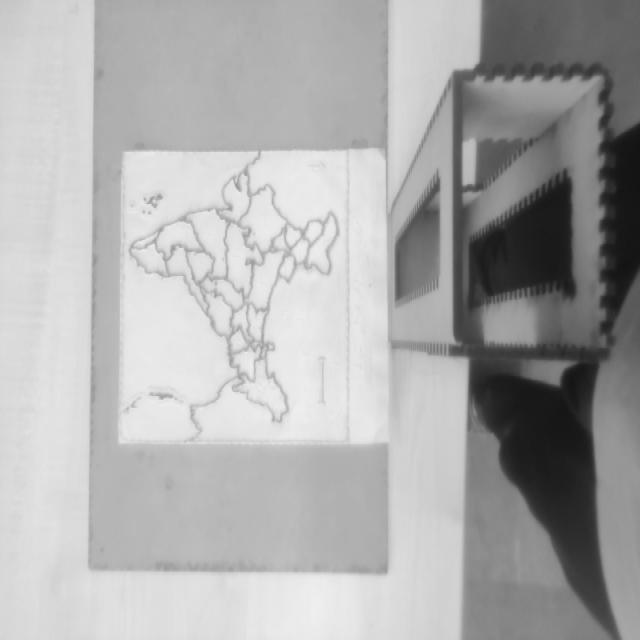map: (119, 151, 349, 443)
